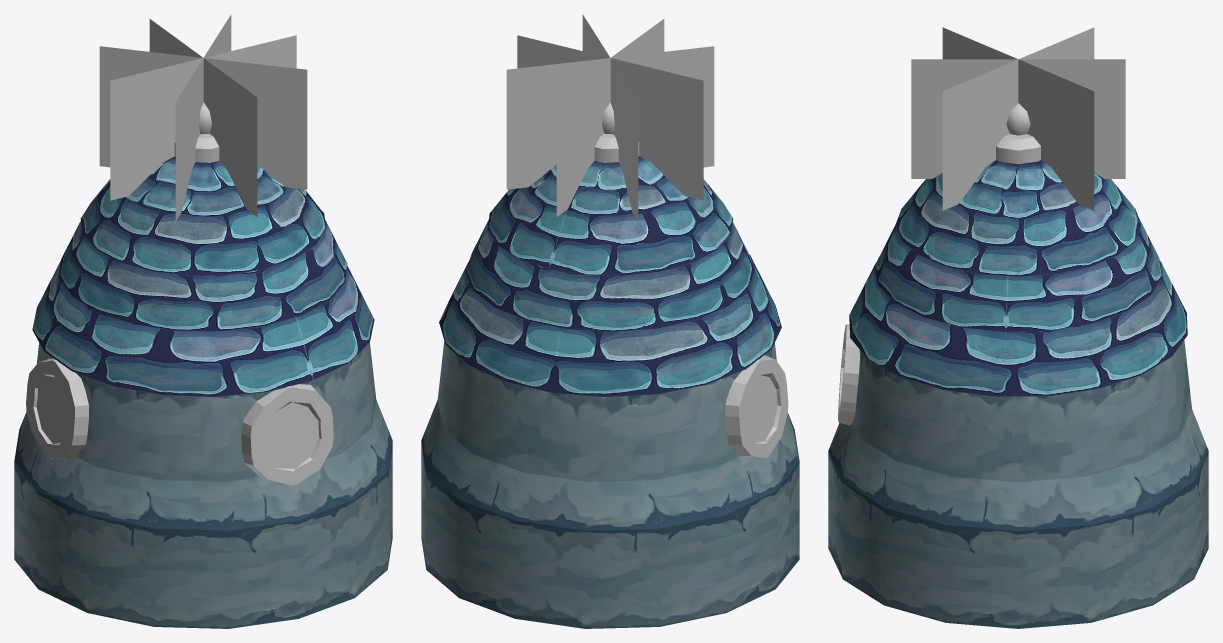
The model's file is SM_CT_Cathedral1.FBX.
3 views of the same model, side by side, from view 1: azimuth 30°, elevation 25°; view 2: azimuth 150°, elevation 25°; view 3: azimuth 270°, elevation 25° (orthographic).
Parts seen in each view (by area): view 1: SM_CT_Cathedral1; view 2: SM_CT_Cathedral1; view 3: SM_CT_Cathedral1.
Boxes of the visible parts, x1=… form: SM_CT_Cathedral1: x1=14, y1=14, x2=392, y2=628; SM_CT_Cathedral1: x1=421, y1=14, x2=799, y2=628; SM_CT_Cathedral1: x1=828, y1=27, x2=1208, y2=628.
Bounding box in the file's own units: 238 × 338 × 238.
